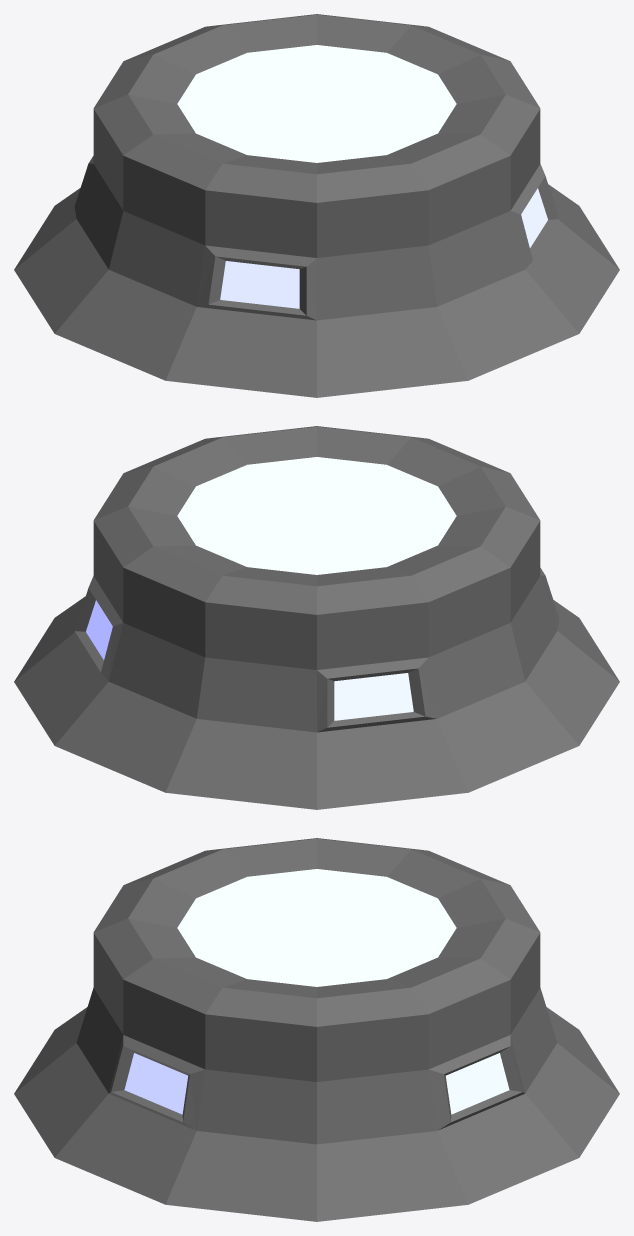
The model's file is lobby1.fbx.
The picture shows the model from 3 angles, top to bottom: view 1: azimuth 30°, elevation 25°; view 2: azimuth 150°, elevation 25°; view 3: azimuth 270°, elevation 25°; orthographic projection.
Parts seen in each view (by area): view 1: Cylinder; view 2: Cylinder; view 3: Cylinder.
Boxes of the visible parts, bbox=[...] form: Cylinder: bbox=[14, 14, 619, 397]; Cylinder: bbox=[14, 426, 619, 809]; Cylinder: bbox=[14, 838, 619, 1221].
Size of the model in its own units: 663 by 212 by 663.
